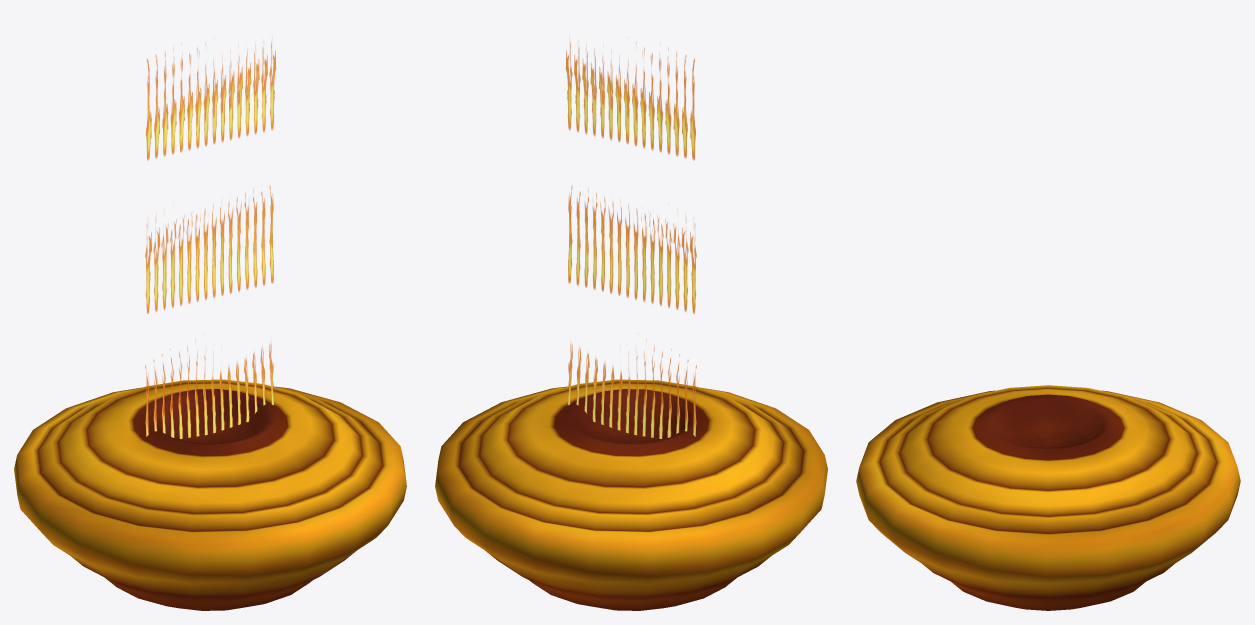
The model's file is mm6_deco_sconce1_free.glb.
3 views of the same model, side by side, from view 1: azimuth 30°, elevation 25°; view 2: azimuth 150°, elevation 25°; view 3: azimuth 270°, elevation 25° (orthographic). The views are drawn at different scales.
Visible parts, largest first — view 1: Sconce1Free; view 2: Sconce1Free; view 3: Sconce1Free.
Part boxes in pixels (x1,y1,x2,y2): Sconce1Free: (14, 42, 406, 610); Sconce1Free: (435, 42, 827, 610); Sconce1Free: (856, 385, 1240, 610).
Size of the model in its own units: 0.7589 by 1.2 by 0.7589.
3 materials, 3 textured.
